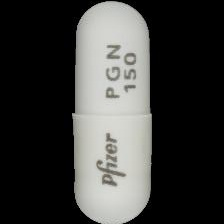61786-824: (0, 0, 224, 224)
